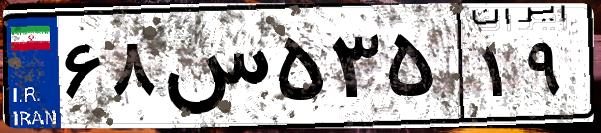1: (475, 38, 525, 113)
3: (330, 28, 385, 110)
5: (270, 28, 330, 110), (385, 28, 445, 110)
6: (57, 26, 110, 100)
8: (110, 28, 158, 98)
9: (525, 38, 570, 115)
س: (158, 20, 270, 120)
